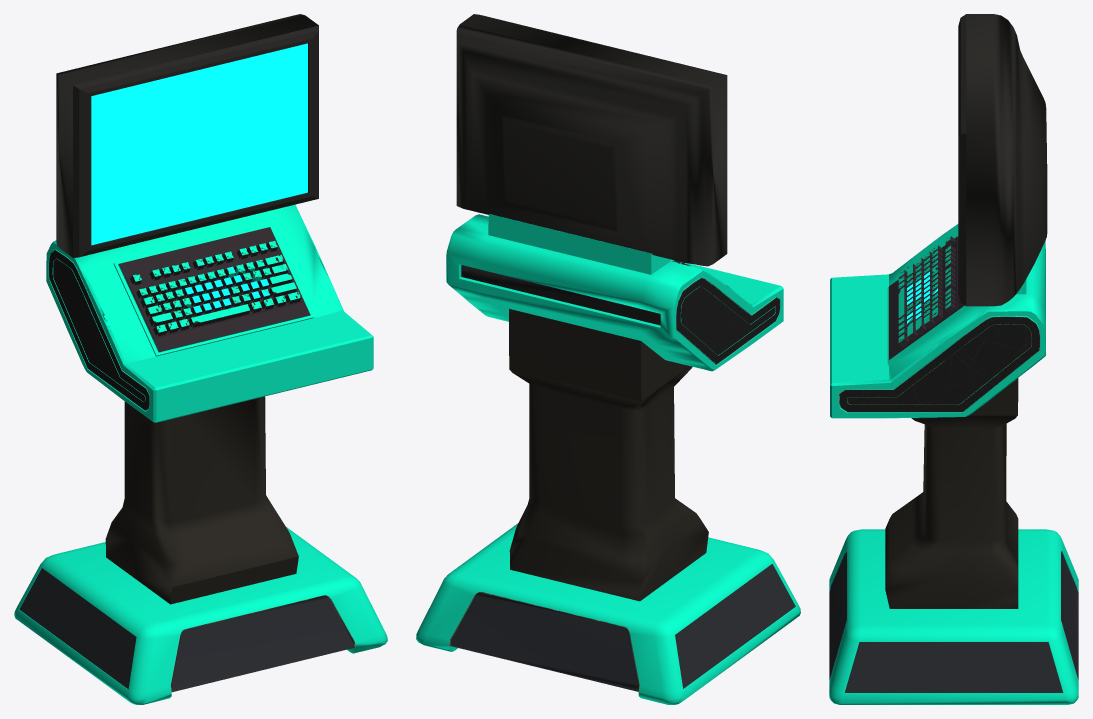
The model's file is Terminal.glb.
3 views of the same model, side by side, from view 1: azimuth 30°, elevation 25°; view 2: azimuth 150°, elevation 25°; view 3: azimuth 270°, elevation 25° (orthographic). The views are drawn at different scales.
Visible parts, largest first — view 1: Cube.004_10; view 2: Cube.004_10; view 3: Cube.004_10.
Boxes of the visible parts, bbox=[...] form: Cube.004_10: bbox=[14, 14, 387, 704]; Cube.004_10: bbox=[416, 14, 800, 704]; Cube.004_10: bbox=[829, 14, 1078, 704].
Bounding box in the file's own units: 0.4733 × 1 × 0.3967.
6 materials, 2 textured.
